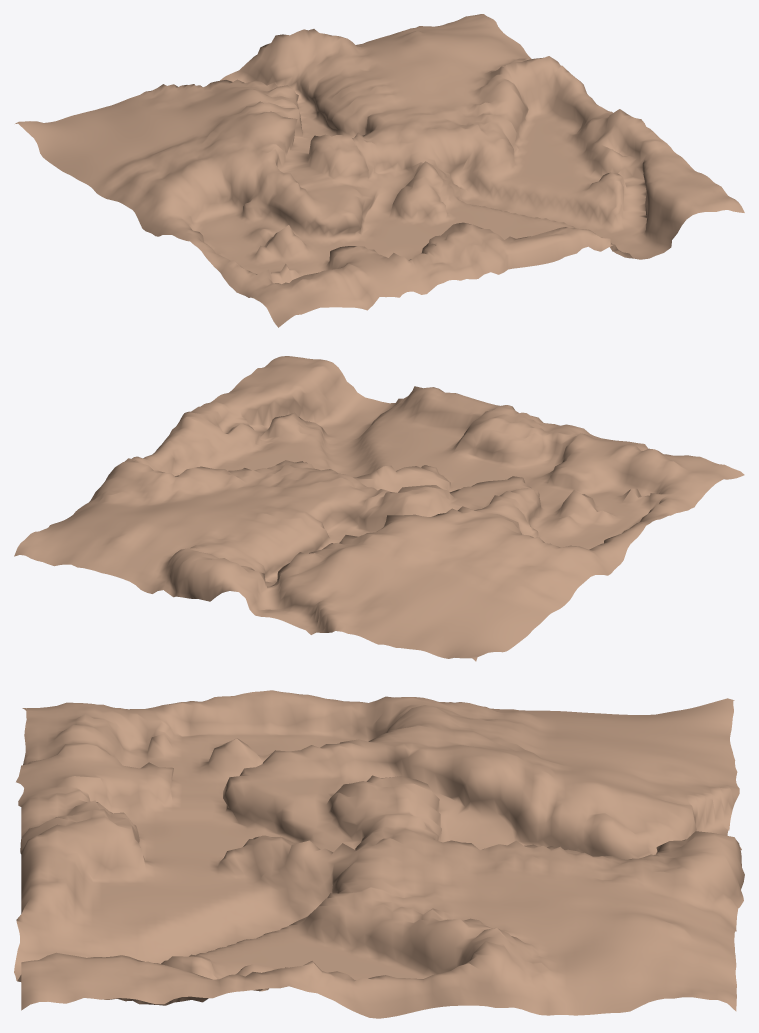
File: Mesh_CrashSite.fbx
3 views of the same model, one above another, from view 1: azimuth 30°, elevation 25°; view 2: azimuth 150°, elevation 25°; view 3: azimuth 270°, elevation 25° (orthographic). The views are drawn at different scales.
Visible parts, largest first — view 1: plane; view 2: plane; view 3: plane.
Boxes of the visible parts, x1,y1,x2,y2 form: plane: (15, 14, 744, 327); plane: (14, 356, 744, 661); plane: (14, 690, 744, 1018).
Bounding box in the file's own units: 304 × 42.52 × 307.
